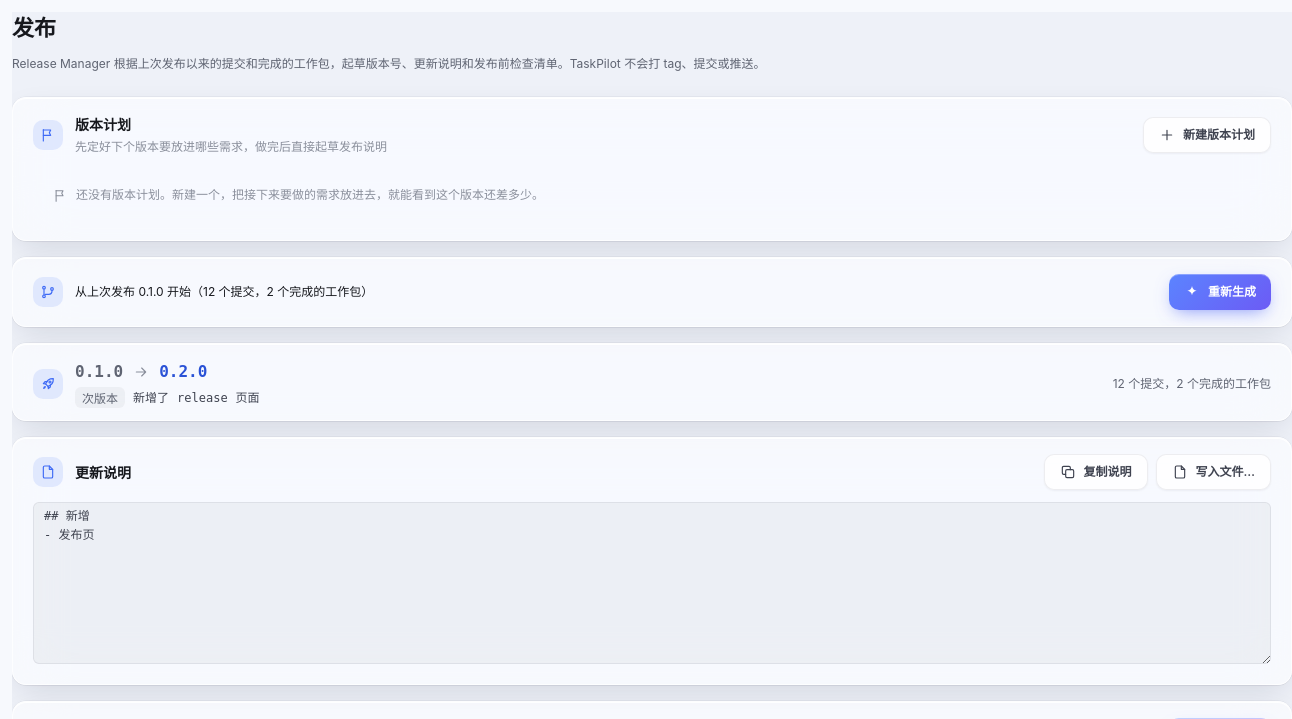
it: ReleaseView › notes save on blur and show 已保存
The image size is (1292, 719).
Replace the text in the text box named "更新说明" with "## 改过" at (652,583), box [33,502,1271,664]
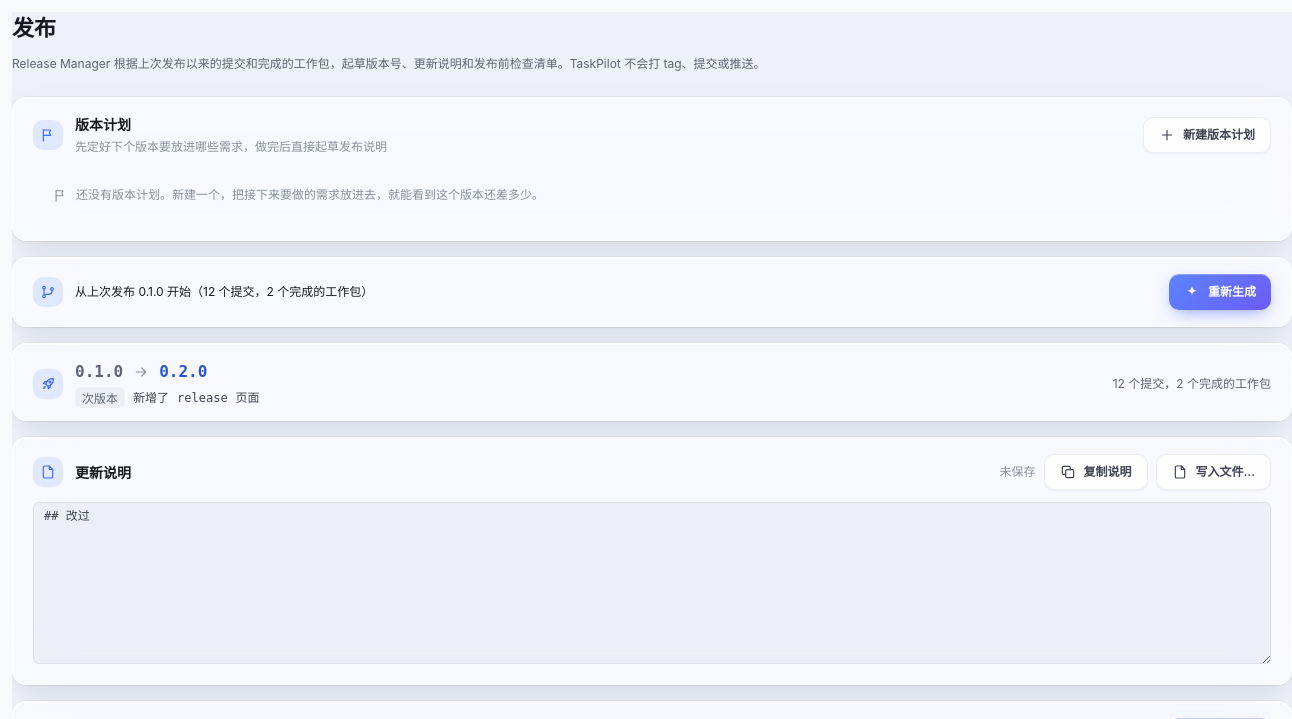
Leave the text box named "更新说明", box [33,502,1271,664]
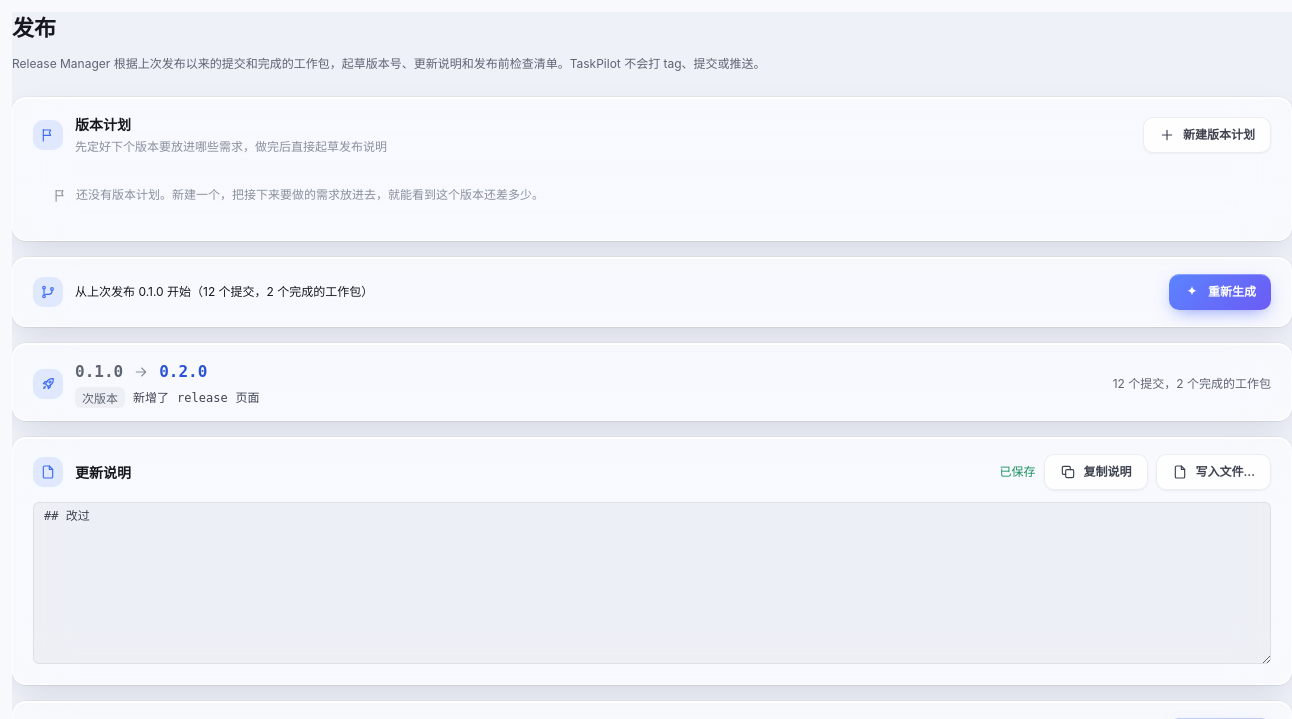
Now the text with class "notes-status" reads "已保存", box [1000,464,1036,479]
